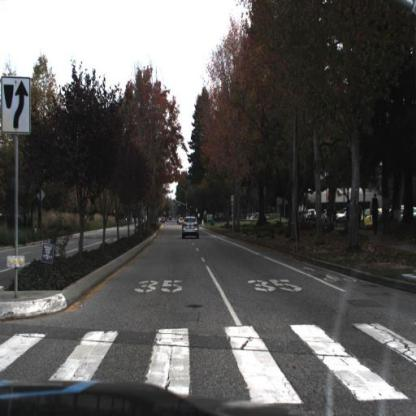car: (181, 214, 202, 242), (312, 197, 335, 219)
pedestrian: (371, 194, 381, 236), (383, 195, 393, 237), (28, 213, 33, 229), (24, 212, 28, 227)
